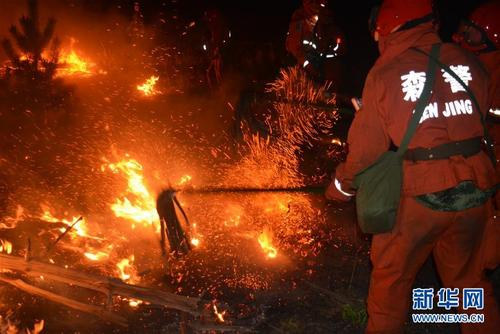fire: (109, 160, 159, 229), (66, 217, 108, 265), (62, 52, 93, 75)
